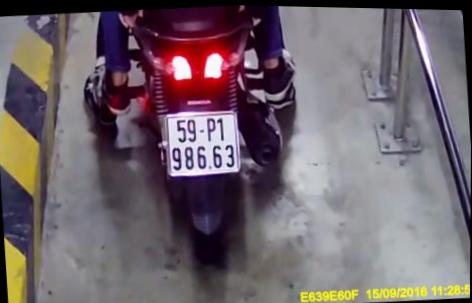LP: (162, 107, 244, 179)
